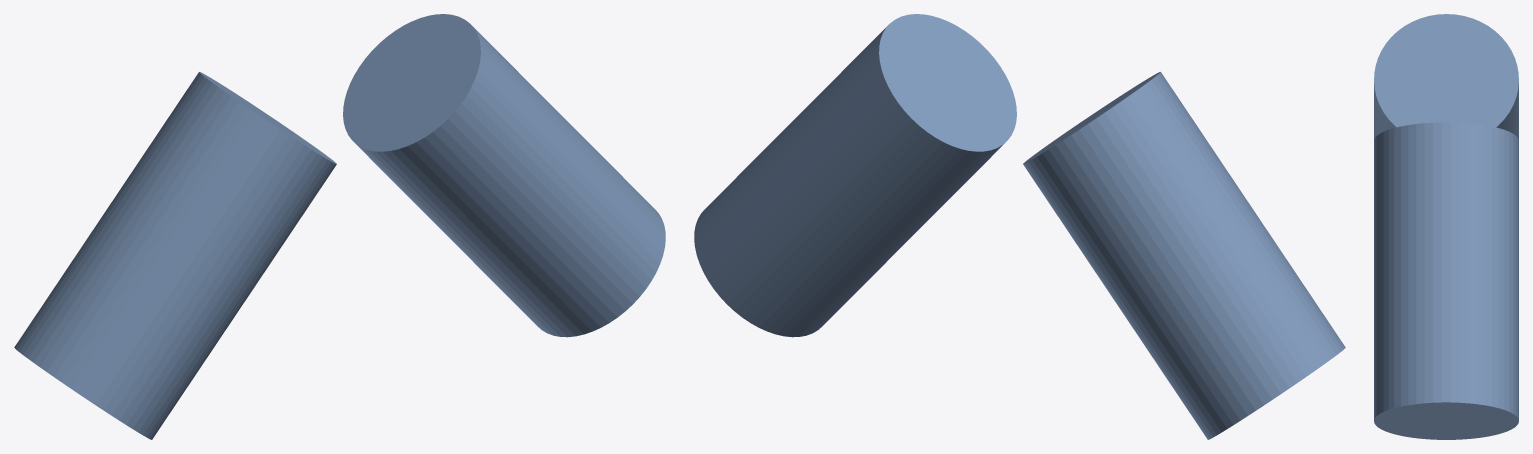
The model's file is v8_det.glb.
3 views of the same model, side by side, from view 1: azimuth 30°, elevation 25°; view 2: azimuth 150°, elevation 25°; view 3: azimuth 270°, elevation 25° (orthographic). The views are drawn at different scales.
Parts seen in each view (by area): view 1: d000, d001; view 2: d000, d001; view 3: d000, d001.
Part boxes in pixels (x1,y1,x2,y2): d000: (343,14,665,337); d001: (14,72,336,439); d000: (694,14,1016,337); d001: (1023,72,1345,439); d000: (1374,122,1518,439); d001: (1374,14,1518,139).
Bounding box in the file's own units: 86.75 × 43.5 × 19.99.
